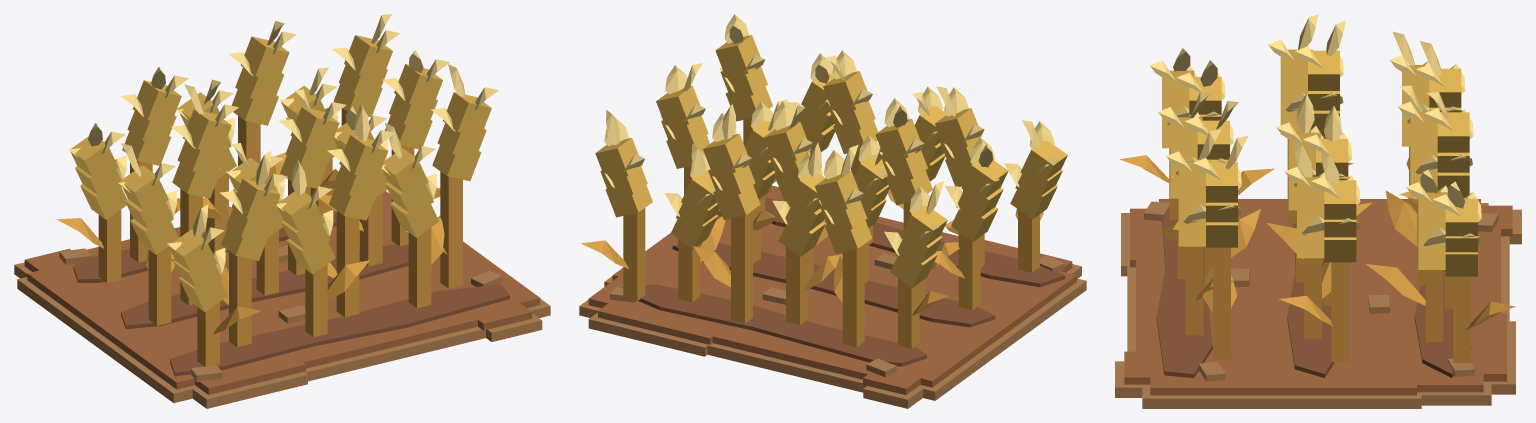
File: plot-wheat.glb
The picture shows the model from 3 angles, left to right: view 1: azimuth 30°, elevation 25°; view 2: azimuth 150°, elevation 25°; view 3: azimuth 270°, elevation 25°; orthographic projection. The views are drawn at different scales.
Parts seen in each view (by area): view 1: Blade; view 2: Blade; view 3: Blade.
Boxes of the visible parts, x1,y1,x2,y2 form: Blade: (14,14,550,408); Blade: (579,14,1086,408); Blade: (1115,14,1521,408).
Size of the model in its own units: 1.77 by 1.04 by 1.55.
